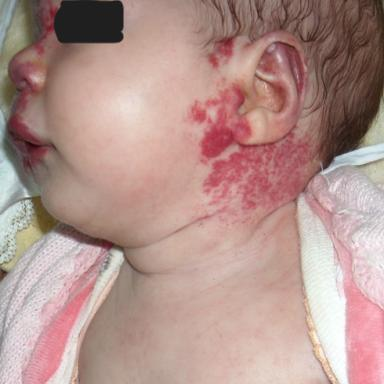Hemangiome: (202, 125, 233, 157)
